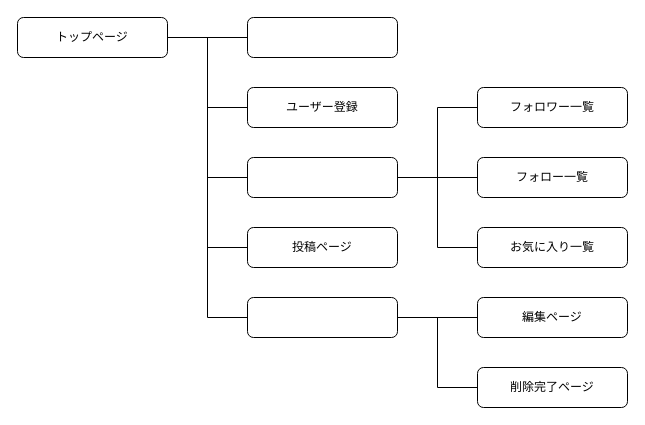
This 645x425 diagram has some shape labels left out. Here are the shapes that lost their labels. From the top down, the centre of each, then its label:
the point at 322,37: ログイン
the point at 322,177: マイページ
the point at 322,317: 詳細ページ
